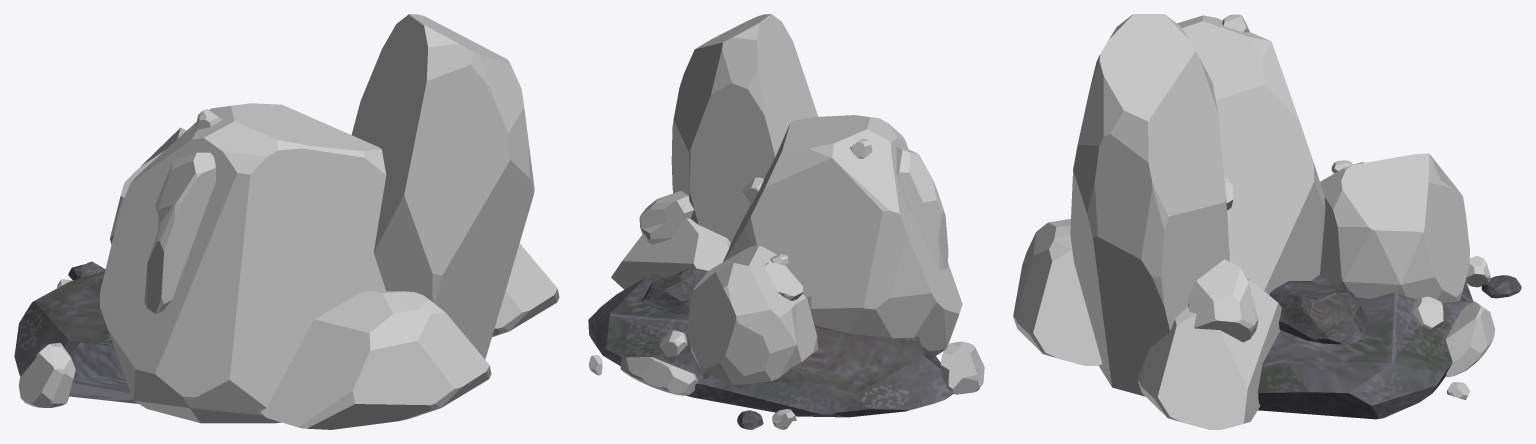
The model's file is rock2.fbx.
The picture shows the model from 3 angles, left to right: view 1: azimuth 30°, elevation 25°; view 2: azimuth 150°, elevation 25°; view 3: azimuth 270°, elevation 25°; orthographic projection. The views are drawn at different scales.
Parts seen in each view (by area): view 1: Icosphere.012, Icosphere.045, Icosphere.013, Icosphere.047, Icosphere.014, Icosphere.031, Icosphere.015, Icosphere.011; view 2: Icosphere.012, Icosphere.045, Icosphere.047, Icosphere.011, Icosphere.031, Icosphere.014, Icosphere.023, Icosphere.019, Icosphere.015, Icosphere.048, Icosphere.016, Icosphere.024 (+2 smaller); view 3: Icosphere.045, Icosphere.012, Icosphere.011, Icosphere.047, Icosphere.031, Icosphere.013, Icosphere.048, Icosphere.019, Icosphere.023, Icosphere.024, Icosphere.027, Icosphere.026.
Part boxes in pixels (left/top/right/bottom): Icosphere.012: left=100, top=103, right=386, bottom=423; Icosphere.045: left=351, top=14, right=534, bottom=359; Icosphere.013: left=260, top=291, right=491, bottom=429; Icosphere.047: left=14, top=271, right=138, bottom=403; Icosphere.014: left=144, top=152, right=216, bottom=313; Icosphere.031: left=492, top=243, right=559, bottom=337; Icosphere.015: left=19, top=342, right=75, bottom=407; Icosphere.011: left=110, top=127, right=186, bottom=244; Icosphere.012: left=723, top=115, right=962, bottom=355; Icosphere.045: left=671, top=14, right=818, bottom=242; Icosphere.047: left=588, top=273, right=953, bottom=417; Icosphere.011: left=688, top=245, right=818, bottom=384; Icosphere.031: left=611, top=218, right=730, bottom=289; Icosphere.014: left=896, top=146, right=948, bottom=270; Icosphere.023: left=620, top=357, right=697, bottom=395; Icosphere.019: left=639, top=191, right=694, bottom=244; Icosphere.015: left=940, top=341, right=984, bottom=394; Icosphere.048: left=642, top=267, right=707, bottom=314; Icosphere.016: left=764, top=262, right=803, bottom=300; Icosphere.024: left=659, top=330, right=687, bottom=356; Icosphere.045: left=1070, top=14, right=1229, bottom=396; Icosphere.012: left=1177, top=15, right=1325, bottom=294; Icosphere.011: left=1320, top=153, right=1469, bottom=302; Icosphere.047: left=1257, top=274, right=1473, bottom=419; Icosphere.031: left=1137, top=279, right=1281, bottom=429; Icosphere.013: left=1013, top=219, right=1102, bottom=365; Icosphere.048: left=1269, top=281, right=1367, bottom=344; Icosphere.019: left=1188, top=259, right=1258, bottom=342; Icosphere.023: left=1445, top=301, right=1495, bottom=377; Icosphere.024: left=1412, top=296, right=1443, bottom=329; Icosphere.027: left=1481, top=275, right=1521, bottom=298; Icosphere.026: left=1466, top=256, right=1490, bottom=287.
Bounding box in the file's own units: 631 × 442 × 560.
